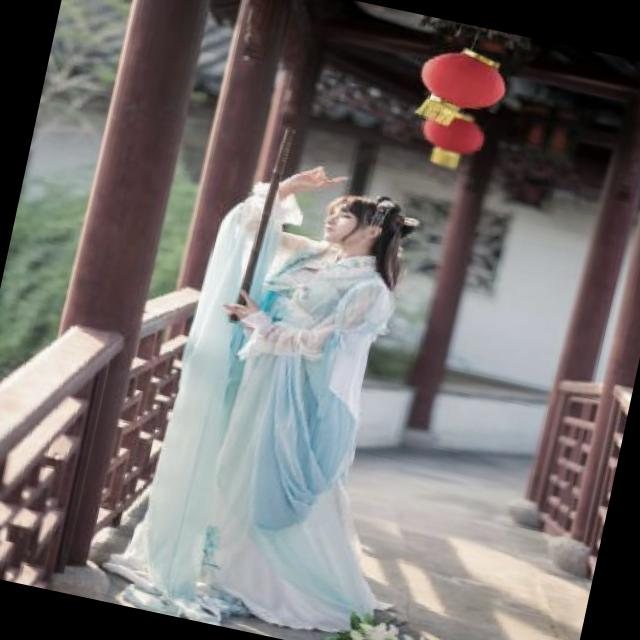Person: (144, 139, 423, 621)
